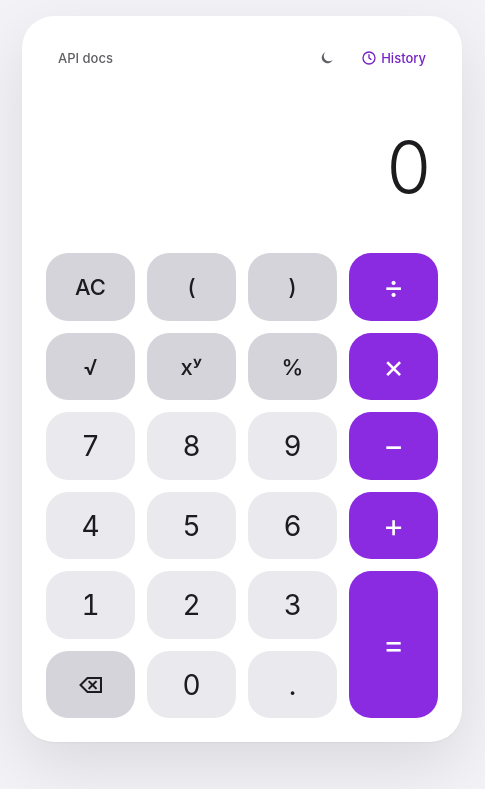
Test case: Calculator › shows the API's detail on division by zero, then starts over
What coordinates should you click on to do the following:
click the button "1"
I would click on:
 (90, 605)
Its box is [46,572,135,639].
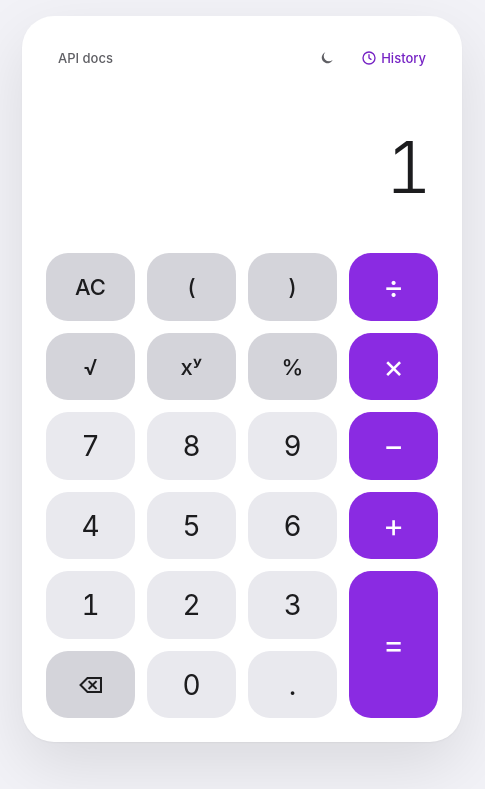
What coordinates should you click on to do the following:
click the button named "divide"
I would click on:
 (394, 287)
Its box is [349,254,438,321].
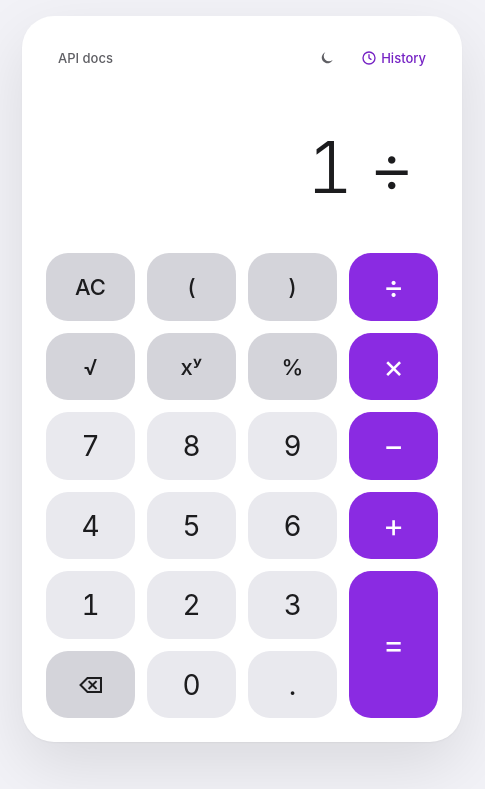
What coordinates should you click on to do the following:
click the button "0"
I would click on:
 (192, 685)
Its box is [147,651,236,718].
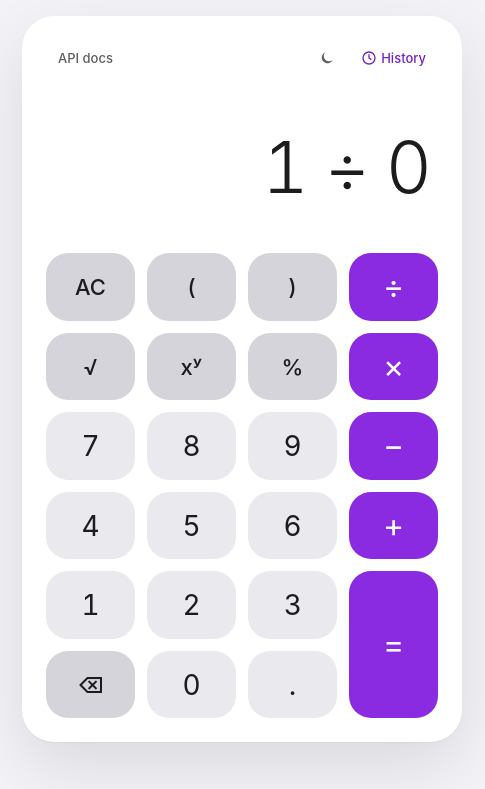
What coordinates should you click on to do the following:
click the button named "equals"
I would click on:
 (394, 645)
Its box is [349,572,438,718].
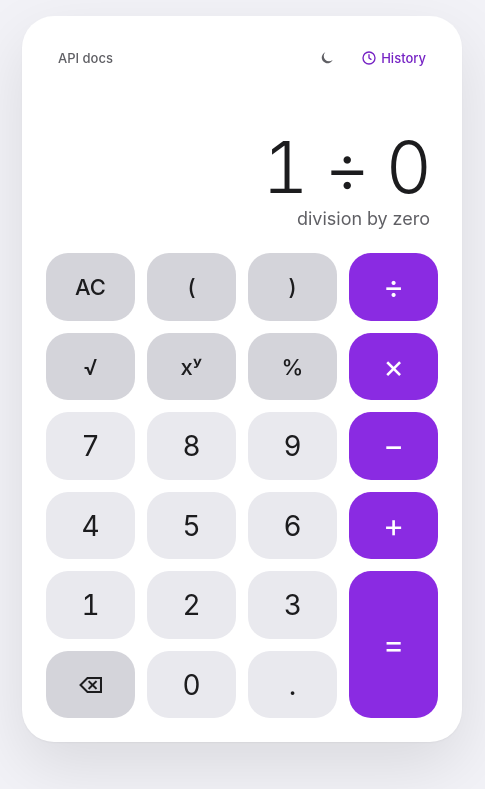
Expected: the element named "display" shows "division by zero", [297,208,430,229]
What coordinates should you click on to do the following:
click the button "4"
I would click on:
 (90, 526)
Its box is [46,492,135,560].
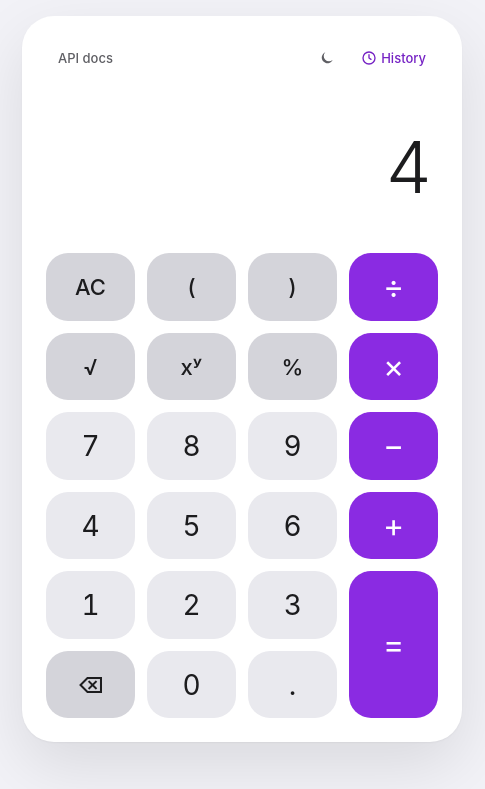
Expected: the element showing "4" is shown, [386,129,430,204]
